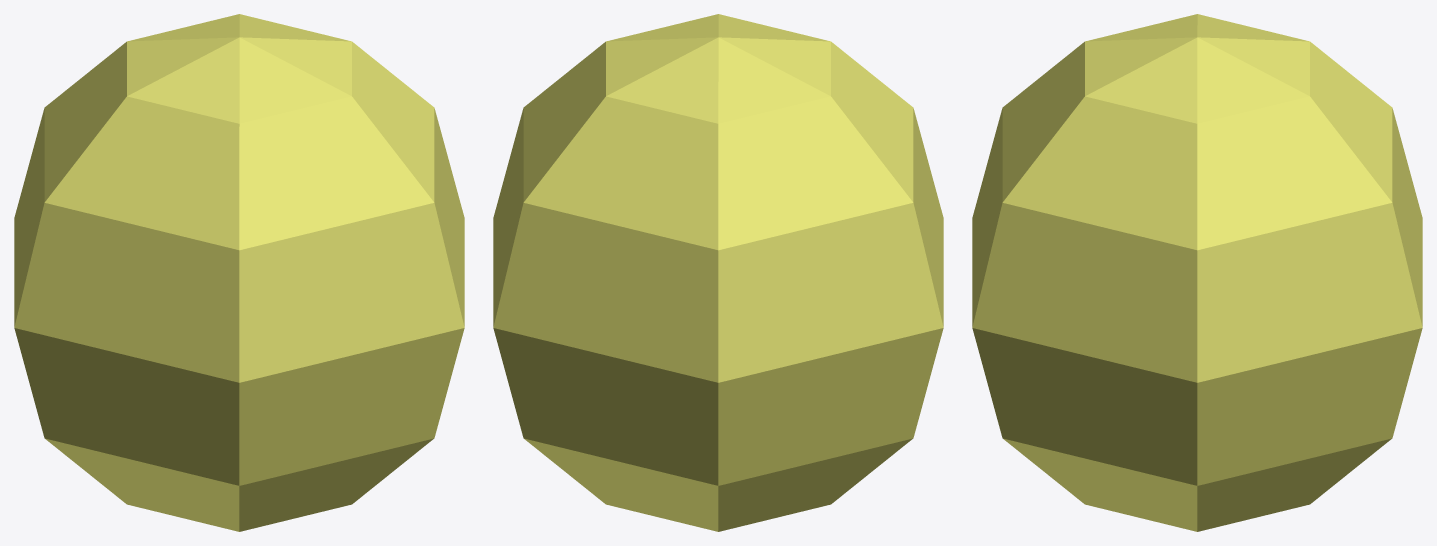
File: esa.fbx
The picture shows the model from 3 angles, left to right: view 1: azimuth 30°, elevation 25°; view 2: azimuth 150°, elevation 25°; view 3: azimuth 270°, elevation 25°; orthographic projection.
Visible parts, largest first — view 1: pSphere1; view 2: pSphere1; view 3: pSphere1.
Part boxes in pixels (box(x1,y1,x2,y2)): pSphere1: box(14, 14, 464, 531); pSphere1: box(493, 14, 943, 531); pSphere1: box(972, 14, 1422, 531).
Size of the model in its own units: 2 by 2 by 1.73.
